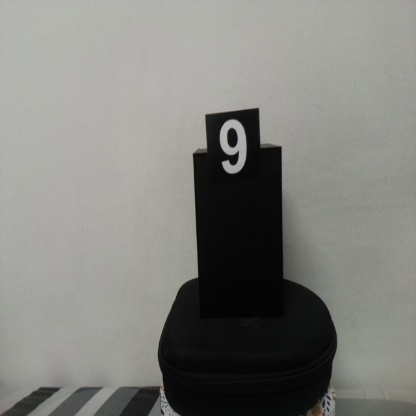id_9: (205, 113, 261, 194)
